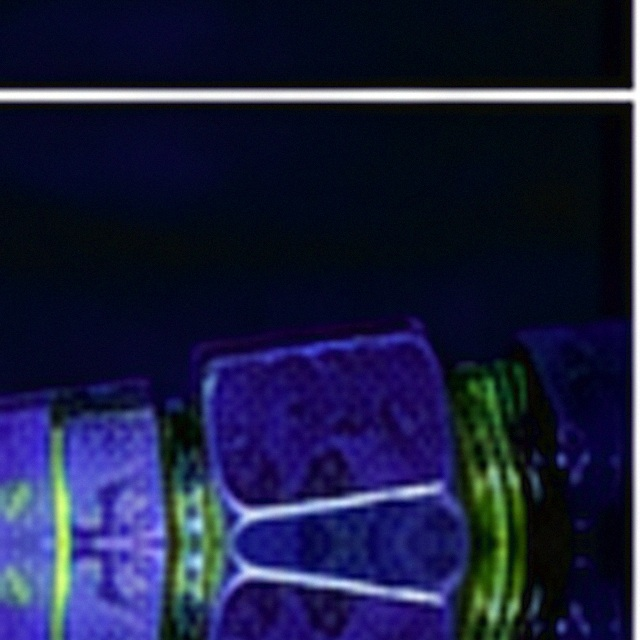hydraulic_oil_leak: (469, 378, 522, 548), (171, 458, 224, 584), (54, 434, 64, 473), (508, 404, 511, 408)
